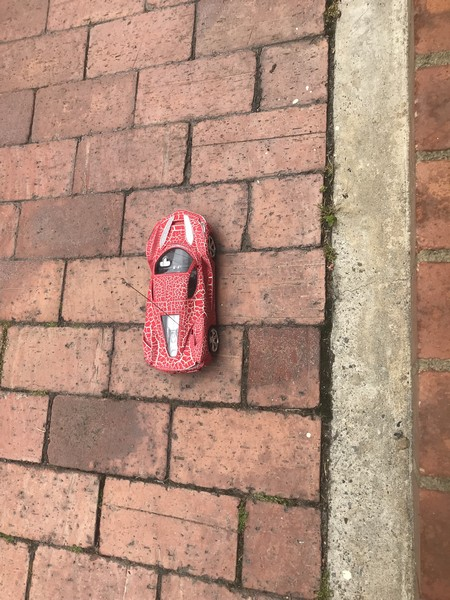RC: (141, 209, 221, 377)
